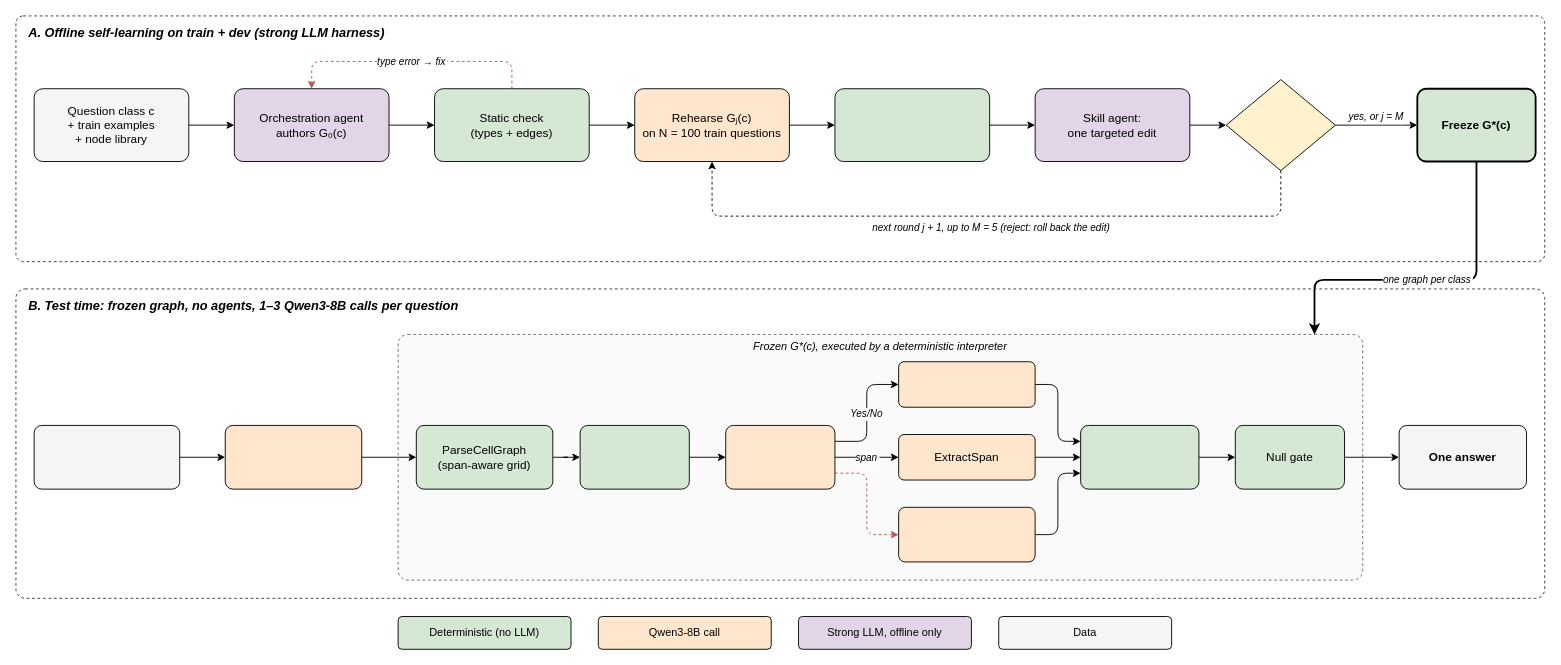
Image size: 1561x665. Some labels were removed from this diagram. Here are the shapes that lost their labels. From the top down, the centre of each, then its label:
At [912,125]: "Attribute each error to a node (vs gold)".
At [1280,125]: "Better on dev?".
At [966,384]: "JudgeBool".
At [106,457]: "Question + table".
At [293,457]: "Hint predictor → class c".
At [634,457]: "Structure manifest".
At [780,457]: "Locate (cell IDs)".
At [1139,457]: "Verbalize / Granularity".
At [966,534]: "Read (fallback: invalid IDs)".
